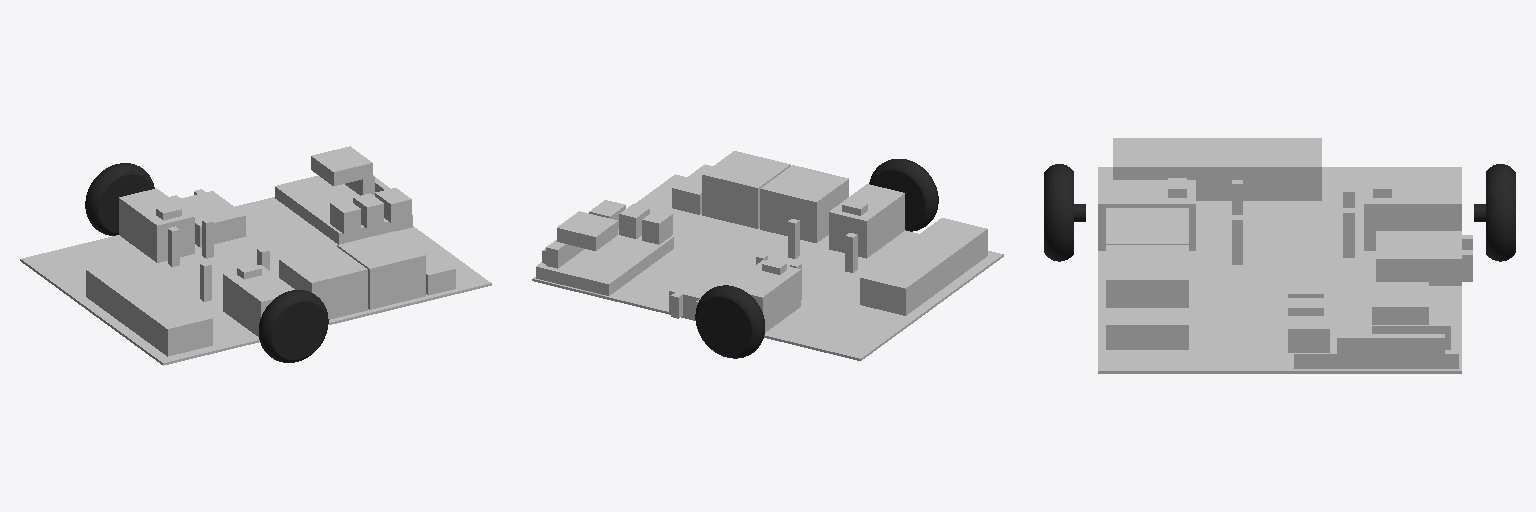
URDF robot description (ddbot):
<?xml version="1.0"?>

<robot name="ddbot">

    <link name="base_footprint"/>

    <material name="grey">
        <color rgba="0.82 0.82 0.82 1.0"/>
    </material>

    <material name="black">
        <color rgba="0.2 0.2 0.2 1.0"/>
    </material>

    <gazebo reference="base_link">
        <material>Gazebo/Grey</material>
    </gazebo>

    <gazebo reference="front_left_wheel_joint">
        <material>Gazebo/DarkGrey</material>
    </gazebo>

    <gazebo reference="front_right_wheel_joint">
        <material>Gazebo/DarkGrey</material>
    </gazebo>

    <link name="base_link">
        <visual>
            <geometry>
                <mesh filename="package://ddbot_description/meshes/body.stl" scale="0.001 0.001 0.001"/>
            </geometry>
            <origin rpy="1.570796 0 0" xyz="0.0375 0 0.009"/>
            <material name="grey"/>
        </visual>
        <collision>
            <geometry>
                <mesh filename="package://ddbot_description/meshes/body.stl" scale="0.001 0.001 0.001"/>
            </geometry>
            <origin rpy="1.570796 0 0" xyz="0.0375 0 0.009"/>
        </collision>
        <inertial>
            <origin rpy="1.570796 0 0" xyz="0.0375 0 0.009"/>
            <mass value="5.0"/>
            <inertia ixx="0.002747" ixy="0.0" ixz="0.0" iyy="0.004793" iyz="0.0" izz="0.007404"/> <!-- height = 3cm -->
        </inertial>
    </link>

    <link name="left_wheel">
        <visual>
            <geometry>
                <mesh filename="package://ddbot_description/meshes/wheel.stl" scale="0.001 0.001 0.001"/>
            </geometry>
            <origin rpy="0 0 4.712389" xyz="0 -0.01 0"/>
            <material name="black"/>
        </visual>
        <collision>
            <geometry>
                <cylinder length="0.016" radius="0.0254"/>
            </geometry>
            <origin rpy="1.57075 0 0" xyz="0 0 0"/>
        </collision>
        <inertial>
            <mass value="0.075"/>
            <inertia ixx="0.0000137" ixy="0.0" ixz="0.0" iyy="0.00002419" iyz="0.0" izz="0.0000137"/> <!-- height = 3cm -->
        </inertial>
    </link>

    <link name="right_wheel">
        <visual>
            <geometry>
                <mesh filename="package://ddbot_description/meshes/wheel.stl" scale="0.001 0.001 0.001"/>
            </geometry>
            <origin rpy="0 0 1.57075" xyz="0 0.01 0"/>
            <material name="black"/>
        </visual>
        <collision>
            <geometry>
                <cylinder length="0.016" radius="0.0254"/>
            </geometry>
            <origin rpy="1.57075 0 0" xyz="0 0 0"/>
        </collision>
        <inertial>
            <mass value="0.075"/>
            <inertia ixx="0.0000137" ixy="0.0" ixz="0.0" iyy="0.00002419" iyz="0.0" izz="0.0000137"/> <!-- height = 3cm -->
        </inertial>
    </link>


    <joint name="dummy_joint" type="fixed">
        <parent link="base_footprint"/>
        <child link="base_link"/>
        <origin rpy="0 0 0" xyz="0 0 0"/>
    </joint>

    <joint name="front_left_wheel_joint" type="continuous">
        <parent link="base_link"/>
        <child link="left_wheel"/>
        <origin xyz="0 0.111 0.0254"/>
        <axis xyz="0 1 0"/>
    </joint>

    <joint name="front_right_wheel_joint" type="continuous">
        <parent link="base_link"/>
        <child link="right_wheel"/>
        <origin xyz="0 -0.111 0.0254"/>
        <axis xyz="0 1 0"/>
    </joint>





    <transmission name="left_wheel_trans">
      <type>transmission_interface/SimpleTransmission</type>
      <actuator name="left_wheel_motor">
        <mechanicalReduction>1</mechanicalReduction>
      </actuator>
      <joint name="front_left_wheel_joint">
        <hardwareInterface>hardware_interface/VelocityJointInterface</hardwareInterface>
      </joint>
    </transmission>
    
    <transmission name="right_wheel_trans">
      <type>transmission_interface/SimpleTransmission</type>
      <actuator name="right_wheel_motor">
        <mechanicalReduction>1</mechanicalReduction>
      </actuator>
      <joint name="front_right_wheel_joint">
        <hardwareInterface>hardware_interface/VelocityJointInterface</hardwareInterface>
      </joint>
    </transmission>




    <!-- Gazebo plugin for ROS Control -->
    <gazebo>
        <plugin name="gazebo_ros_control" filename="libgazebo_ros_control.so">
            <robotNamespace>/diffbot</robotNamespace>
        </plugin>
    </gazebo>

</robot>

--- Facts derived from the render (not from the file) ---
Views: 3 orthographic renders of the robot side by side, from view 1: azimuth 30°, elevation 25°; view 2: azimuth 150°, elevation 25°; view 3: azimuth 270°, elevation 25°.
Robot: ddbot — 4 links, 3 joints (2 continuous, 1 fixed); root link base_footprint; default pose: all joints at 0.
Links seen in each view (by area): view 1: base_link, right_wheel, left_wheel; view 2: base_link, left_wheel, right_wheel; view 3: base_link, left_wheel, right_wheel.
Boxes of the visible links, box(x1,y1,x2,y2) form: base_link: box(20, 146, 491, 365); right_wheel: box(259, 290, 328, 362); left_wheel: box(85, 163, 154, 235); base_link: box(532, 151, 1003, 360); left_wheel: box(695, 285, 764, 358); right_wheel: box(869, 159, 938, 231); base_link: box(1098, 138, 1472, 373); left_wheel: box(1474, 164, 1515, 261); right_wheel: box(1044, 164, 1085, 261).
Size in the robot's own frame: 0.251 by 0.245 by 0.0508 metres.
Meshes: 2 distinct files referenced, 3 mesh visuals loaded (2 binary STL).